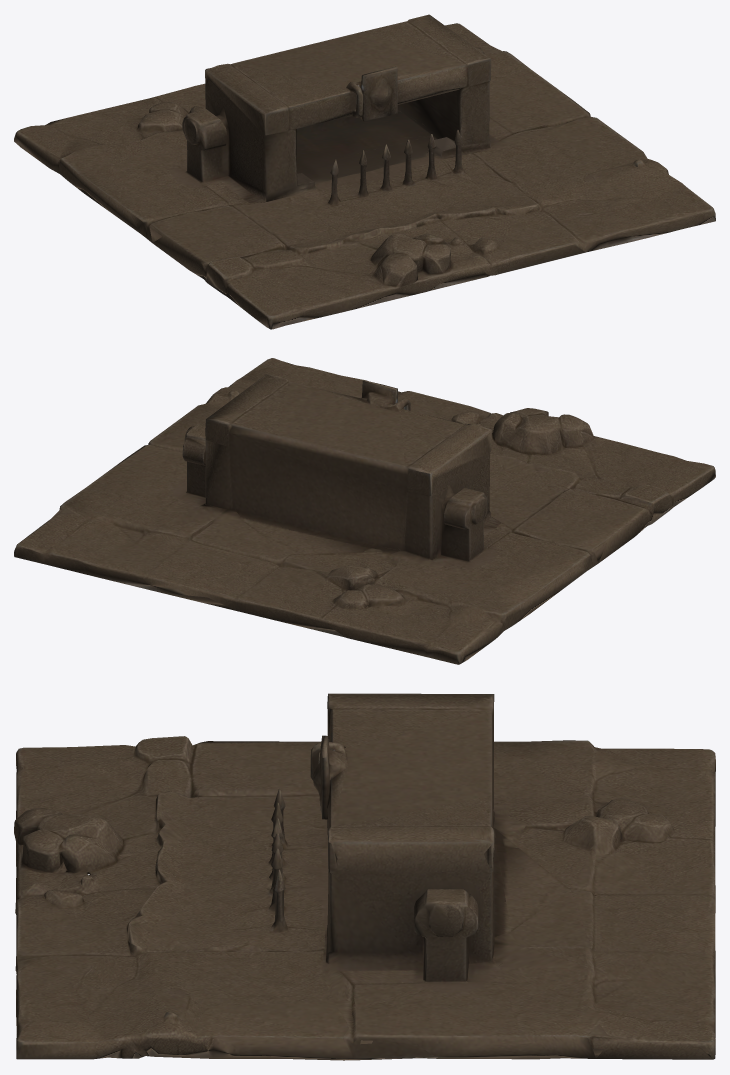
File: spikes.glb
3 views of the same model, one above another, from view 1: azimuth 30°, elevation 25°; view 2: azimuth 150°, elevation 25°; view 3: azimuth 270°, elevation 25° (orthographic). The views are drawn at different scales.
Size of the model in its own units: 1.9 by 0.497 by 1.9.
Materials: 1 (1 with a texture image).
